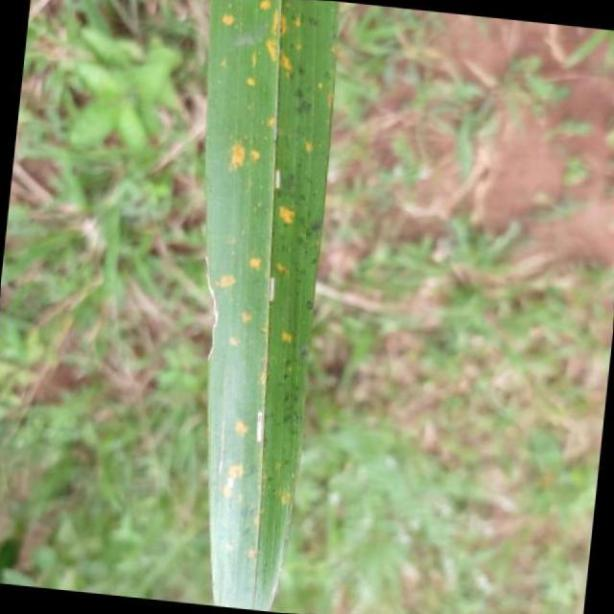Kalium: (203, 0, 344, 614)
